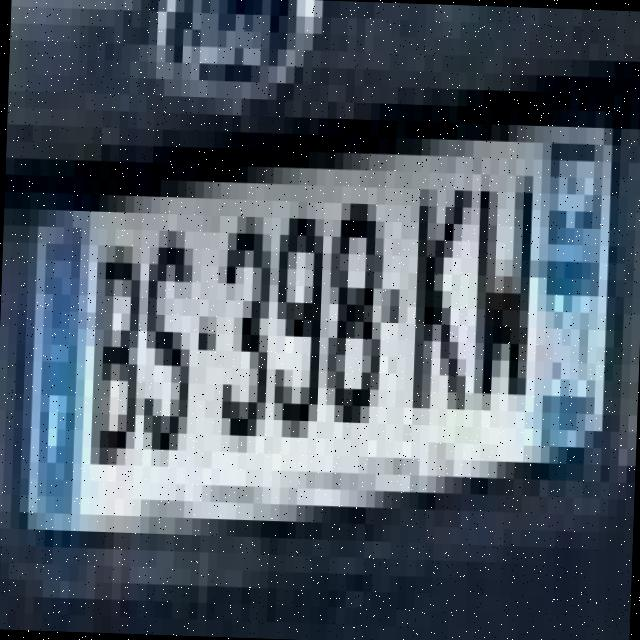Autre: (22, 118, 610, 514)
